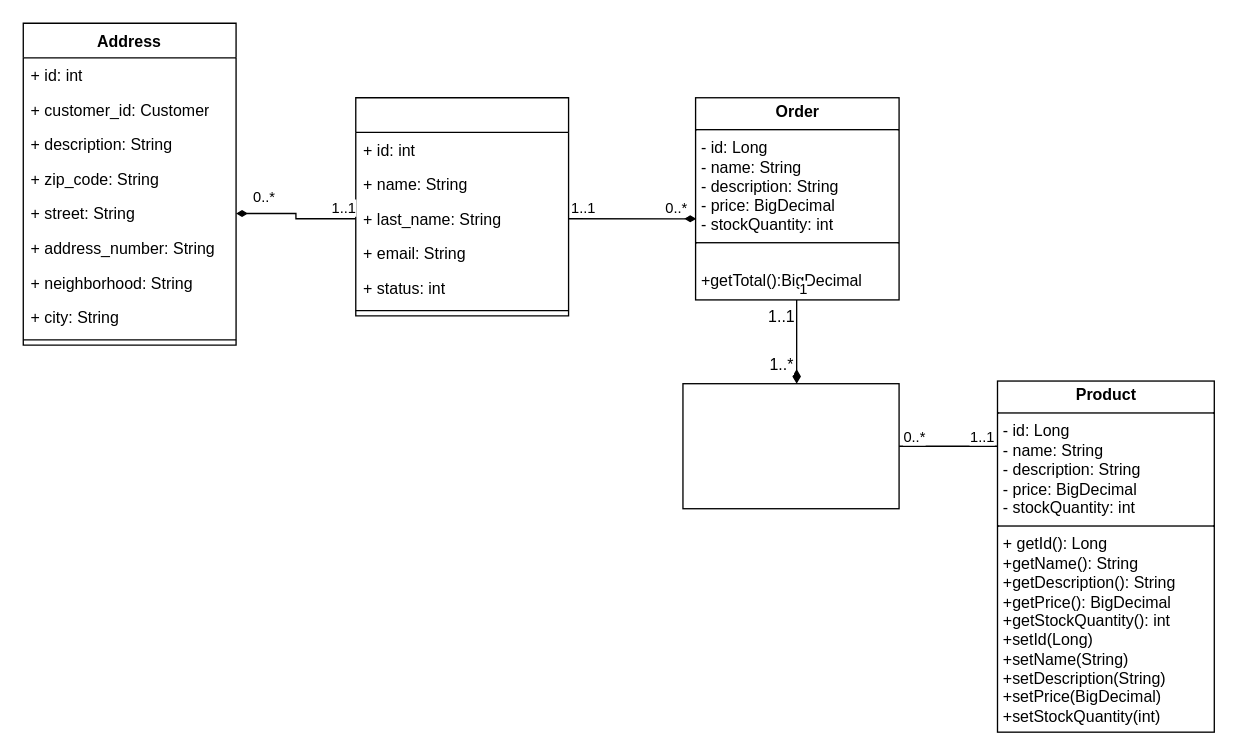
Image size: 1238x755. Some labels were removed from this diagram. The shapes that lost their labels are listed below. From the top down, each one's box as (x1, y1, x2, y2) in pixels, then its label:
(354, 96, 569, 316): Customer
(682, 382, 899, 509): OrderItem - id: Long - quantity: int - product: Product - order: Order
